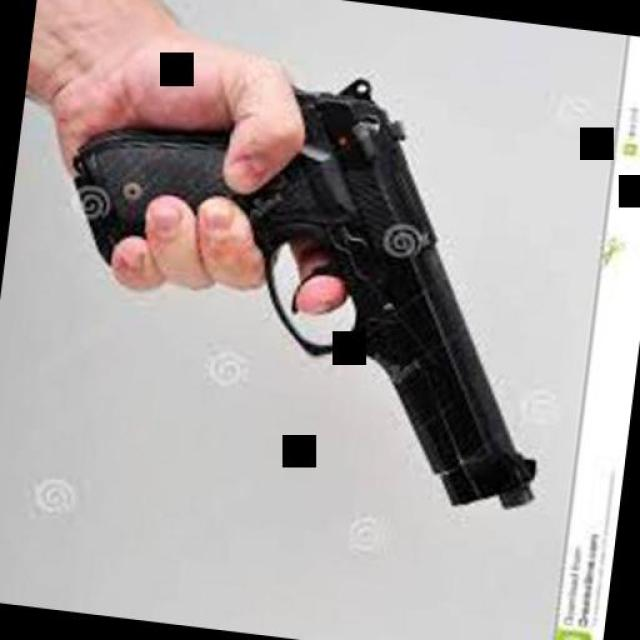gun: (29, 44, 581, 520)
